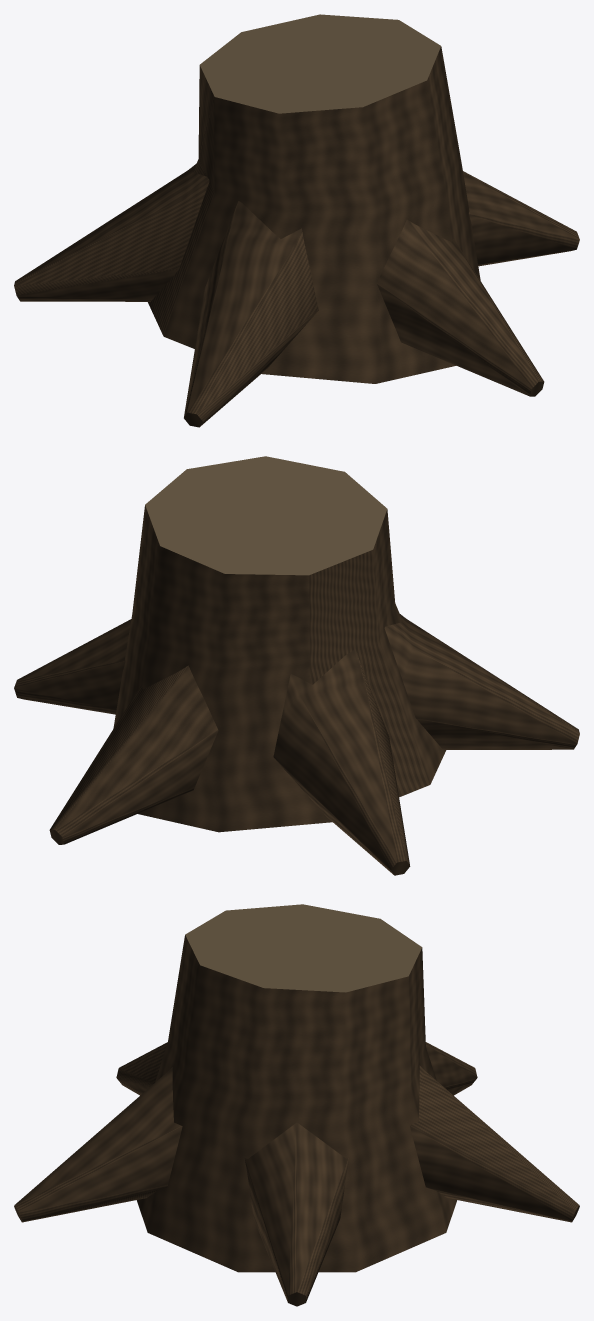
The picture shows the model from 3 angles, top to bottom: view 1: azimuth 30°, elevation 25°; view 2: azimuth 150°, elevation 25°; view 3: azimuth 270°, elevation 25°; orthographic projection. The views are drawn at different scales.
Visible parts, largest first — view 1: Harvest stump; view 2: Harvest stump; view 3: Harvest stump.
Boxes of the visible parts, x1=… form: Harvest stump: x1=14, y1=14, x2=579, y2=427; Harvest stump: x1=14, y1=456, x2=579, y2=875; Harvest stump: x1=14, y1=904, x2=579, y2=1306.
Bounding box in the file's own units: 1.57 × 0.8608 × 1.64.
2 materials, 1 textured.
